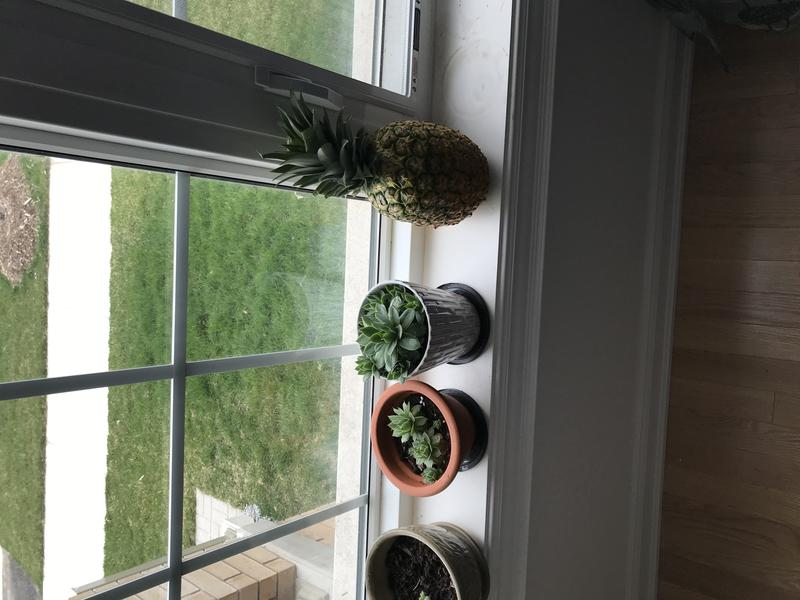pineapple: (248, 88, 497, 233)
